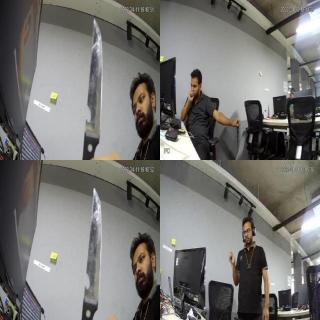knife: (83, 186, 106, 308), (83, 16, 103, 144), (232, 130, 242, 154), (229, 254, 233, 269)
